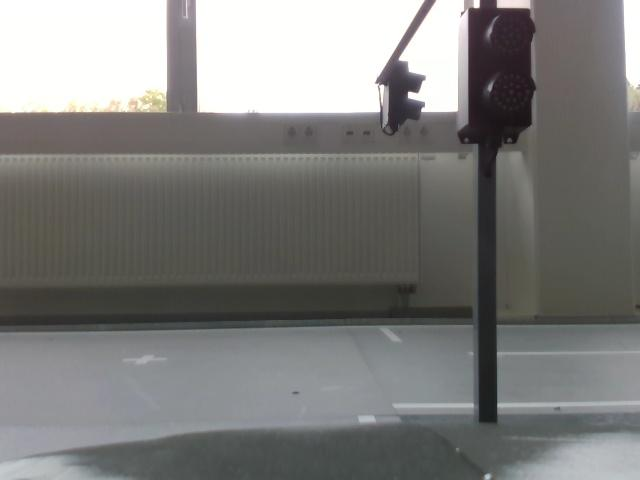traffic light: (465, 12, 540, 148), (371, 63, 433, 138)
